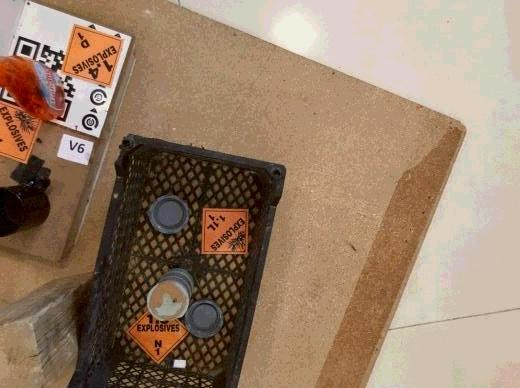explosive: (61, 24, 124, 87), (126, 310, 190, 363), (1, 100, 43, 168), (201, 205, 249, 256)
